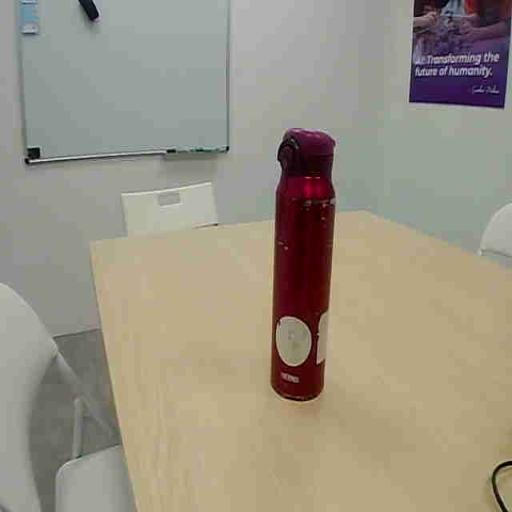bottle: (271, 130, 337, 401)
